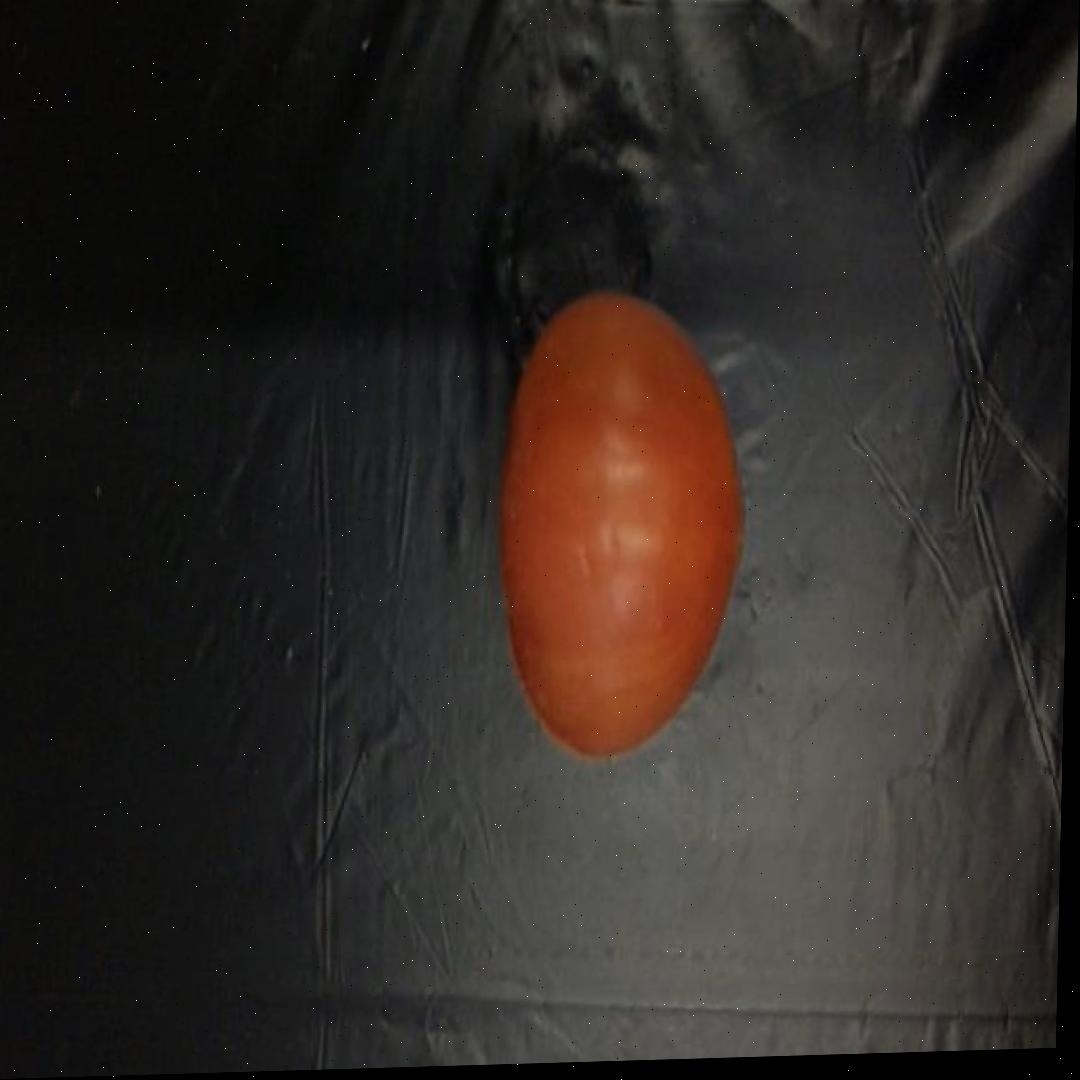matang: (498, 285, 751, 762)
